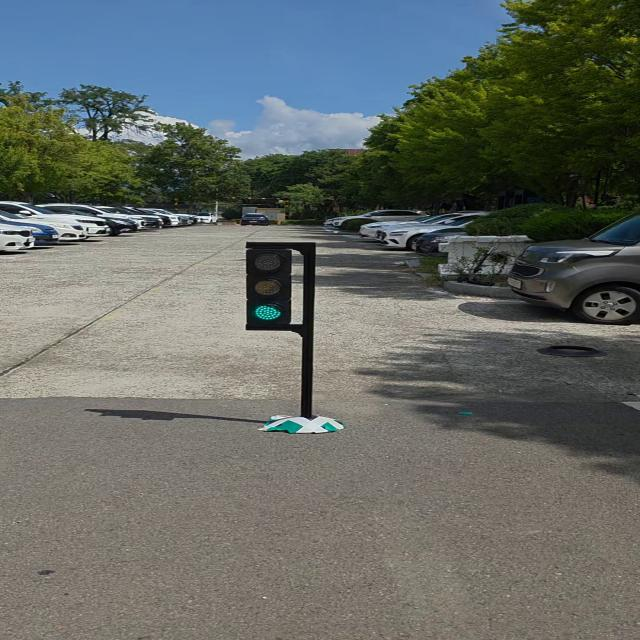green: (248, 240, 296, 332)
